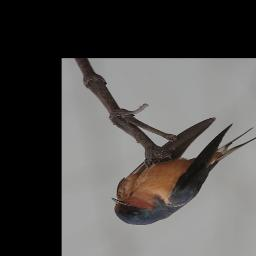Swallow: (110, 117, 256, 227)
